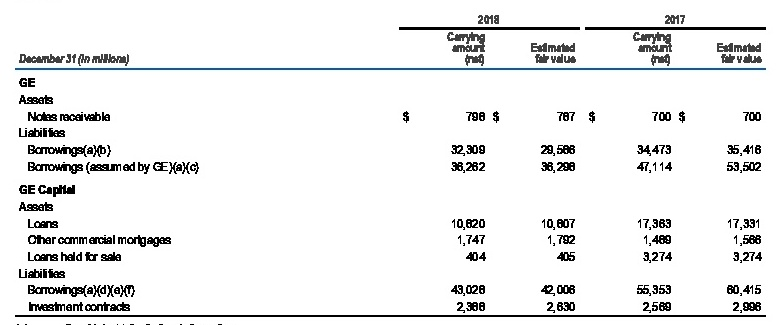table: (0, 0, 784, 325)
